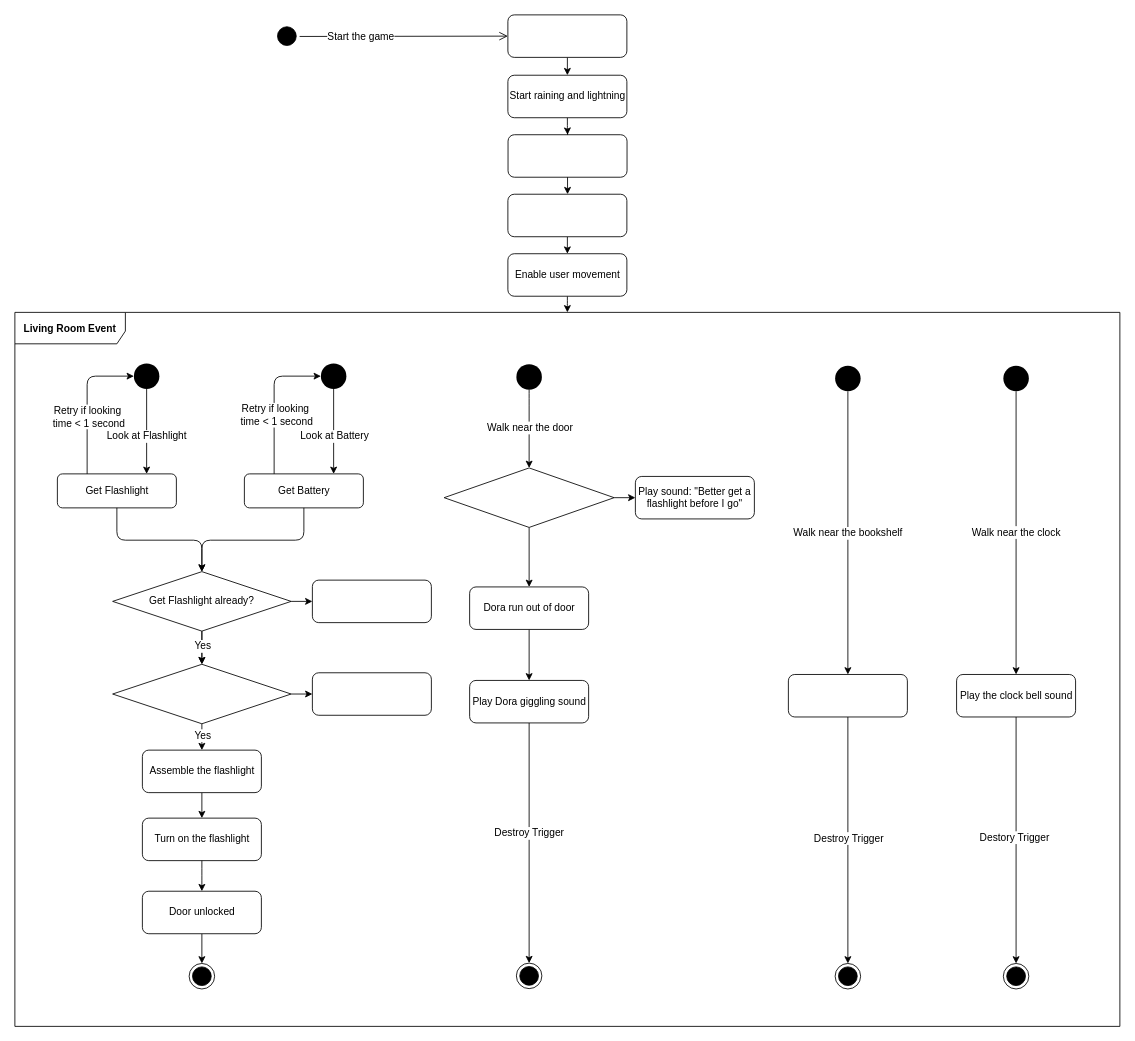
Some shapes in this 1135 by 1041 pixel diagram are drawn without their labels. The shapes that lost their labels are listed below. From the top down, each one's centre as x and y in pixels, then its label:
(567,35): Disable user movement
(567,155): Play Video on TV
(567,215): Power Cut
(528,497): Fiashlight turned on?
(371,601): Play sound: "Where is the battery"
(201,693): Get Battery already?
(371,693): Play sound: "Where is the flashlight"
(847,695): A book dropped
